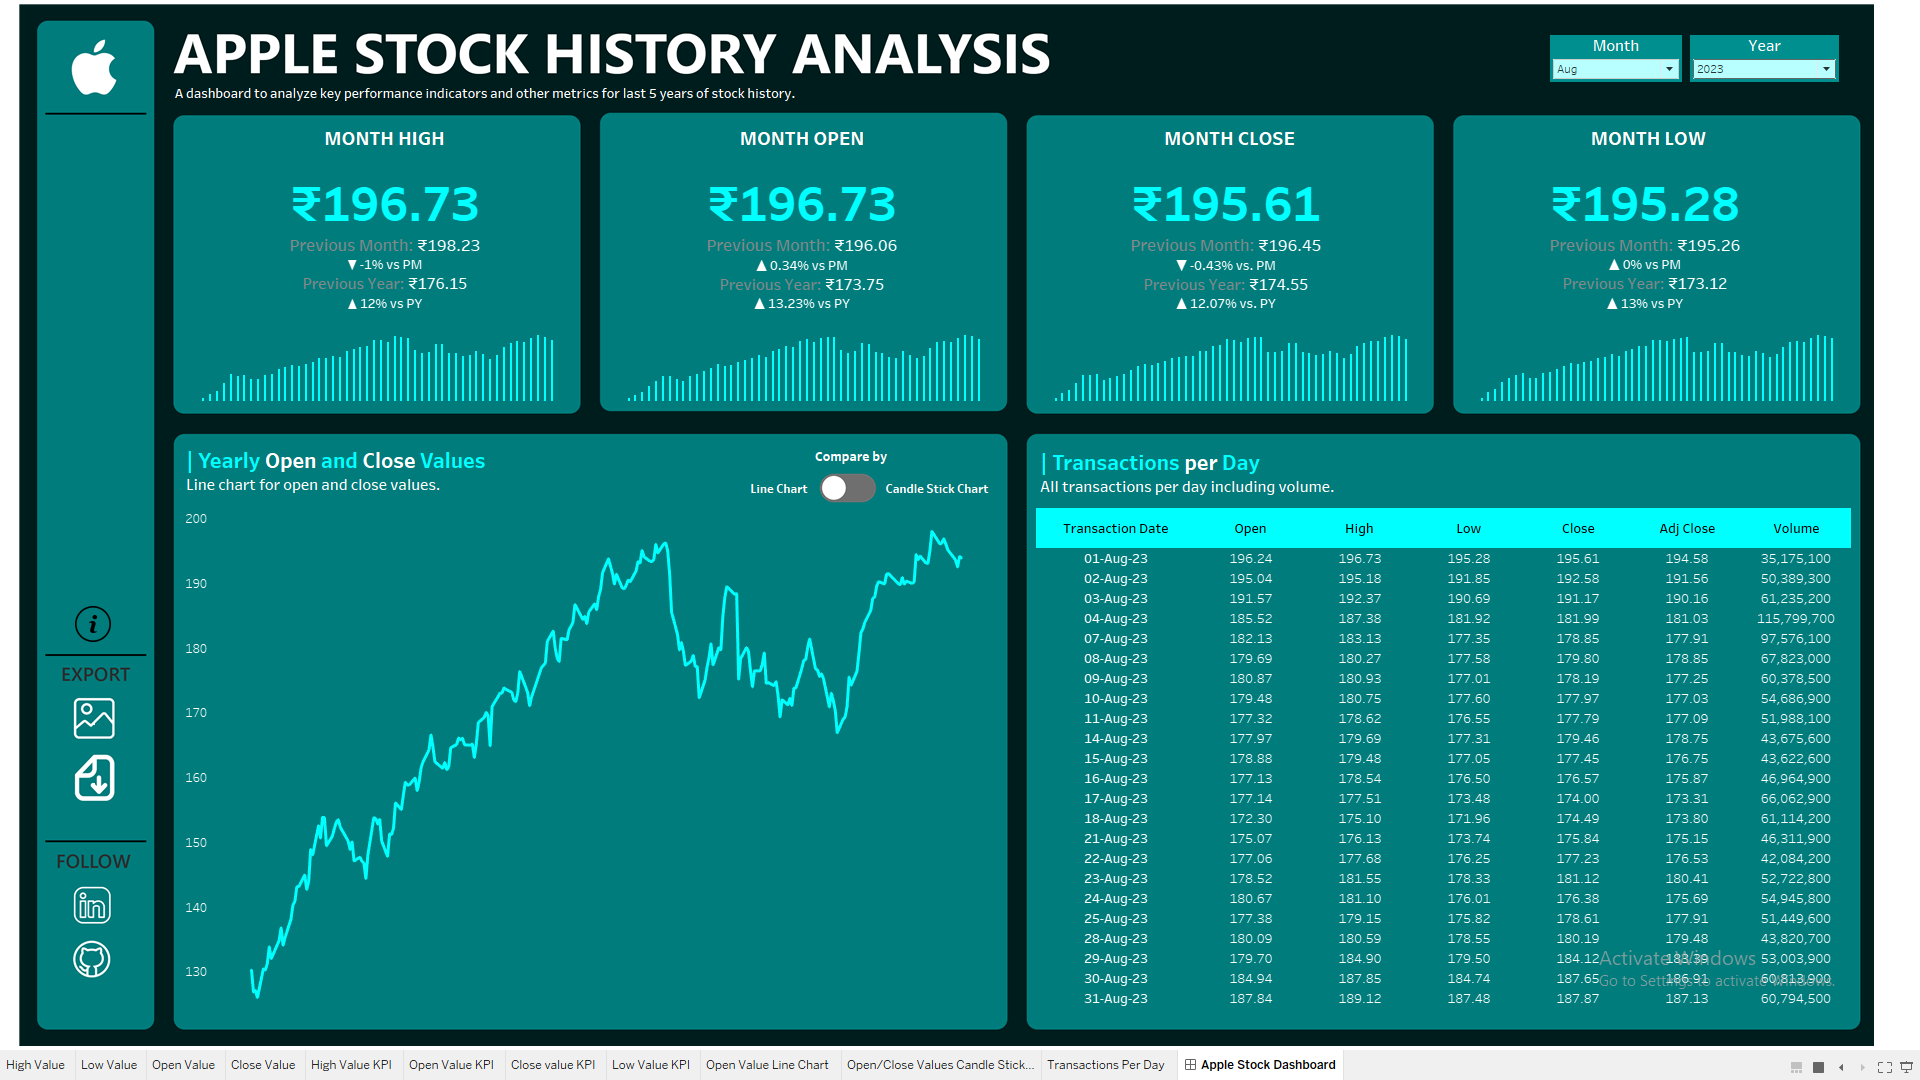

The dashboard page shown, as its layout file describes it:
{"tool":"tableau","page":{"name":"Apple Stock Dashboard","canvas":[1890,1050],"ordinal":0},"visuals":[{"type":"image","param":"D:/SHIVAM/Imarticus-PGA/Self-Study (Extra)/Tableau/Stocks Dashboard using Web Sc","box":[0,0,1890,1050]},{"type":"parameter","param":"[Parameters].[Parameter 1]","box":[1531,31,140,55]},{"type":"parameter","param":"[Parameters].[Parameter 2]","box":[1671,31,157,55]},{"type":"text","box":[157,78,876,30]},{"type":"text","box":[166,120,407,34]},{"type":"text","box":[573,120,428,34]},{"type":"text","box":[1001,120,427,34]},{"type":"text","box":[1428,120,411,34]},{"type":"worksheet","title":"High Value","mark":"Automatic","box":[166,154,407,174]},{"type":"worksheet","title":"Open Value","mark":"Automatic","box":[573,154,428,174]},{"type":"worksheet","title":"Close Value","mark":"Automatic","box":[1001,154,419,174]},{"type":"worksheet","title":"Low Value","mark":"Automatic","box":[1420,154,419,174]},{"type":"worksheet","title":"High Value KPI","mark":"Bar","rows":["Calculation_249105372538839061"],"cols":["Date"],"box":[166,328,393,77]},{"type":"blank","box":[559,328,32,77]},{"type":"worksheet","title":"Open Value KPI","mark":"Bar","rows":["Calculation_726768408365883395"],"cols":["Date"],"box":[591,328,395,77]},{"type":"blank","box":[986,328,32,77]},{"type":"worksheet","title":"Close value KPI","mark":"Bar","rows":["CY Open Values (copy)_726768408369627141"],"cols":["Date"],"box":[1018,328,394.5,77]},{"type":"blank","box":[1412.5,328,32,77]},{"type":"worksheet","title":"Low Value KPI","mark":"Bar","rows":["CY High Value (copy)_726768408374317064"],"cols":["Date"],"box":[1444.5,328,394.5,77]},{"type":"worksheet","title":"Open Value Line Chart","mark":"Line","rows":["Calculation_726768408365883395"],"cols":["Date"],"box":[167,441,816,581]},{"type":"worksheet","title":"Open/Close Values Candle Stick Chart","mark":"GanttBar","rows":["Calculation_726768408365883395","Calculation_249105372538839061"],"cols":["Date"],"box":[167,441,816,581]},{"type":"text","box":[786,441,100,30]},{"type":"worksheet","title":"Transactions Per Day","mark":"Automatic","rows":["Calculation_121034258635927553"],"box":[1021,443,815,577]},{"type":"text","box":[720,466,88,45]},{"type":"blank","box":[808,466,55,45]},{"type":"text","box":[863,466,118,45]},{"type":"dashboard-object","box":[792,472,81,31]},{"type":"worksheet","title":"Info","mark":"Shape","rows":["Calculation_194499228829552641"],"box":[52,601,52,45]},{"type":"dashboard-object","box":[51,691,55,57]},{"type":"dashboard-object","box":[51,748,55,52]},{"type":"image","param":"D:/SHIVAM/Imarticus-PGA/Self-Study (Extra)/Tableau/Stocks Dashboard using Web Sc","box":[51,881,54,51.5]},{"type":"image","param":"D:/SHIVAM/Imarticus-PGA/Self-Study (Extra)/Tableau/Stocks Dashboard using Web Sc","box":[51,932.5,54,51.5]}]}

Visuals, with their boxes on the page's 1890x1050 design canvas (x1, y1, x2, y2). These are canvas units, not pixel positions in the 1920x1080 screenshot, which may show the page scaled, cropped or inside an application window:
image: locate(0, 0, 1890, 1050)
parameter: locate(1531, 31, 1671, 86)
parameter: locate(1671, 31, 1828, 86)
text: locate(157, 78, 1033, 108)
text: locate(166, 120, 573, 154)
text: locate(573, 120, 1001, 154)
text: locate(1001, 120, 1428, 154)
text: locate(1428, 120, 1839, 154)
"High Value" worksheet: locate(166, 154, 573, 328)
"Open Value" worksheet: locate(573, 154, 1001, 328)
"Close Value" worksheet: locate(1001, 154, 1420, 328)
"Low Value" worksheet: locate(1420, 154, 1839, 328)
"High Value KPI" worksheet (Bar marks): locate(166, 328, 559, 405)
blank: locate(559, 328, 591, 405)
"Open Value KPI" worksheet (Bar marks): locate(591, 328, 986, 405)
blank: locate(986, 328, 1018, 405)
"Close value KPI" worksheet (Bar marks): locate(1018, 328, 1412, 405)
blank: locate(1412, 328, 1444, 405)
"Low Value KPI" worksheet (Bar marks): locate(1444, 328, 1839, 405)
"Open Value Line Chart" worksheet (Line marks): locate(167, 441, 983, 1022)
"Open/Close Values Candle Stick Chart" worksheet (GanttBar marks): locate(167, 441, 983, 1022)
text: locate(786, 441, 886, 471)
"Transactions Per Day" worksheet: locate(1021, 443, 1836, 1020)
text: locate(720, 466, 808, 511)
blank: locate(808, 466, 863, 511)
text: locate(863, 466, 981, 511)
dashboard-object: locate(792, 472, 873, 503)
"Info" worksheet (Shape marks): locate(52, 601, 104, 646)
dashboard-object: locate(51, 691, 106, 748)
dashboard-object: locate(51, 748, 106, 800)
image: locate(51, 881, 105, 932)
image: locate(51, 932, 105, 984)
